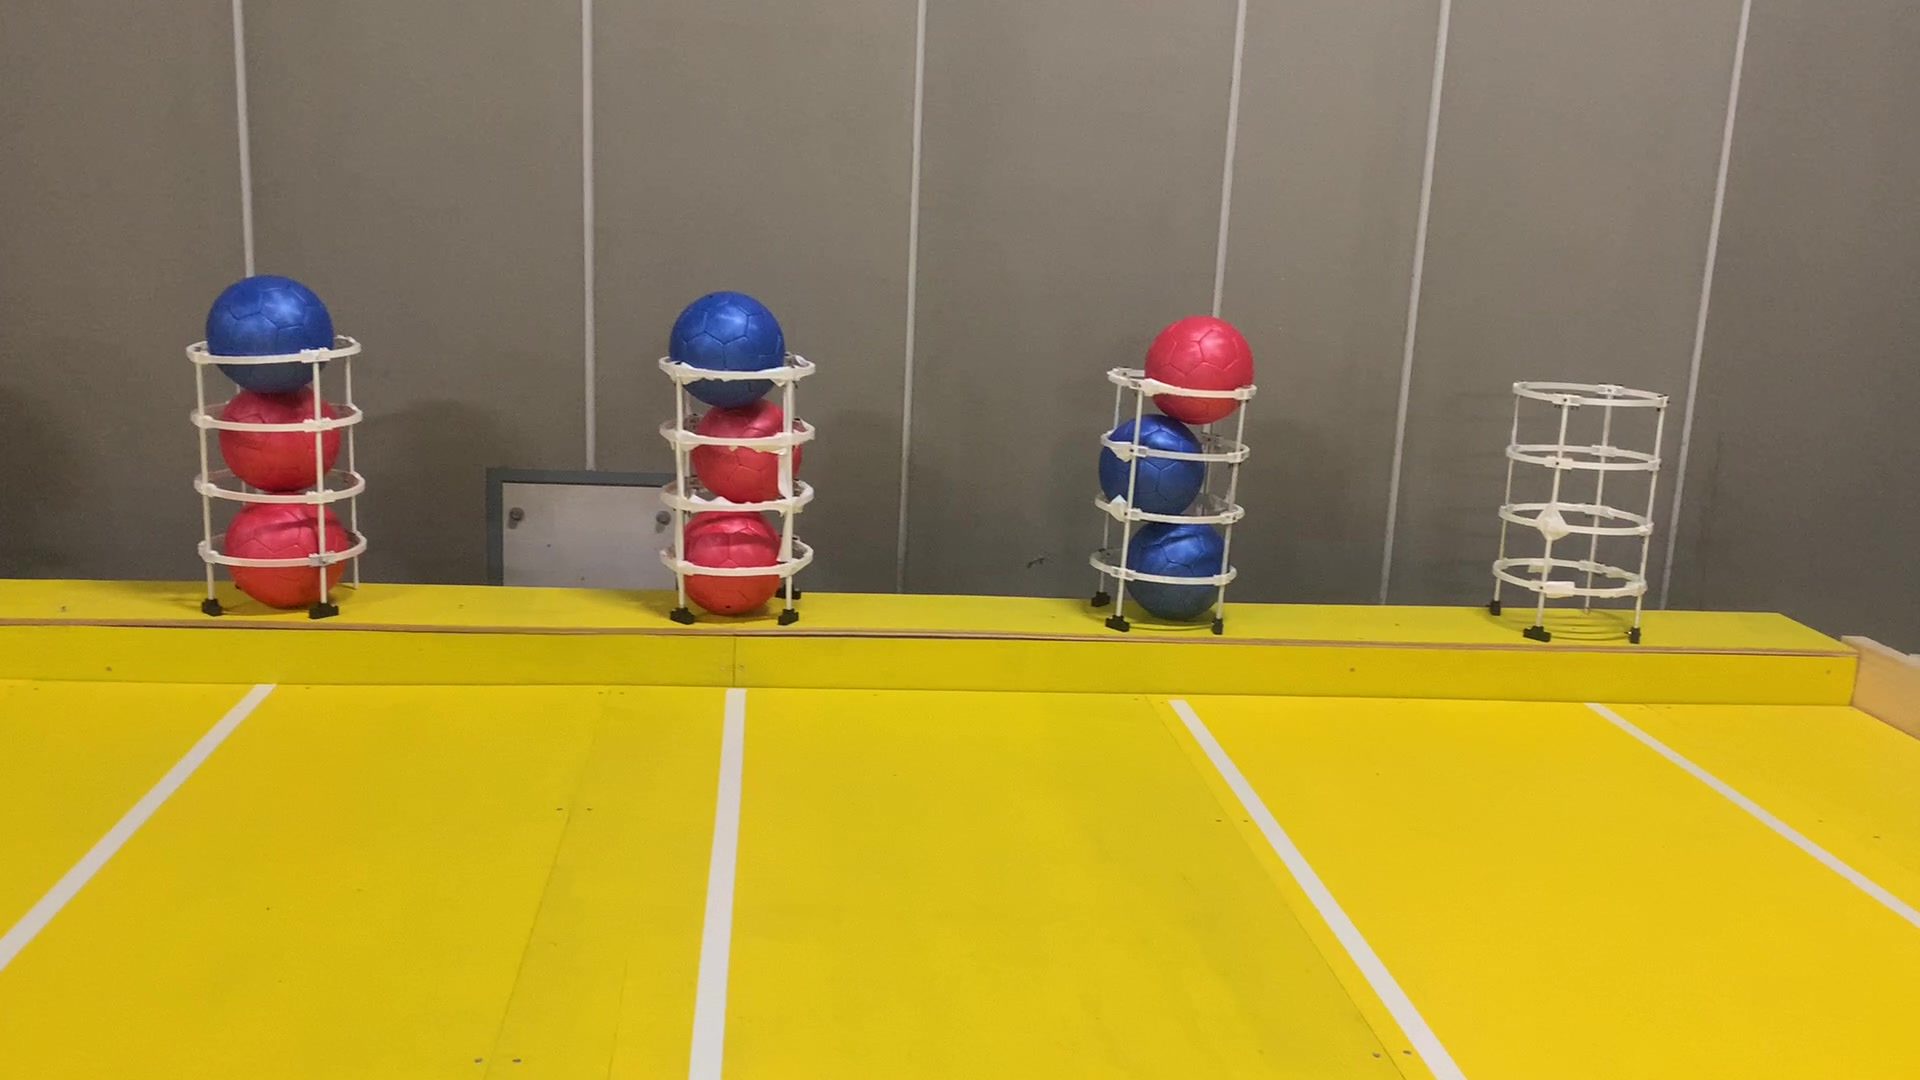blue: (198, 276, 335, 396), (662, 289, 782, 410), (1121, 514, 1240, 634), (1098, 410, 1205, 526)
red: (220, 489, 352, 617), (210, 377, 342, 496), (662, 502, 785, 621), (684, 386, 803, 509), (1142, 307, 1251, 427)
